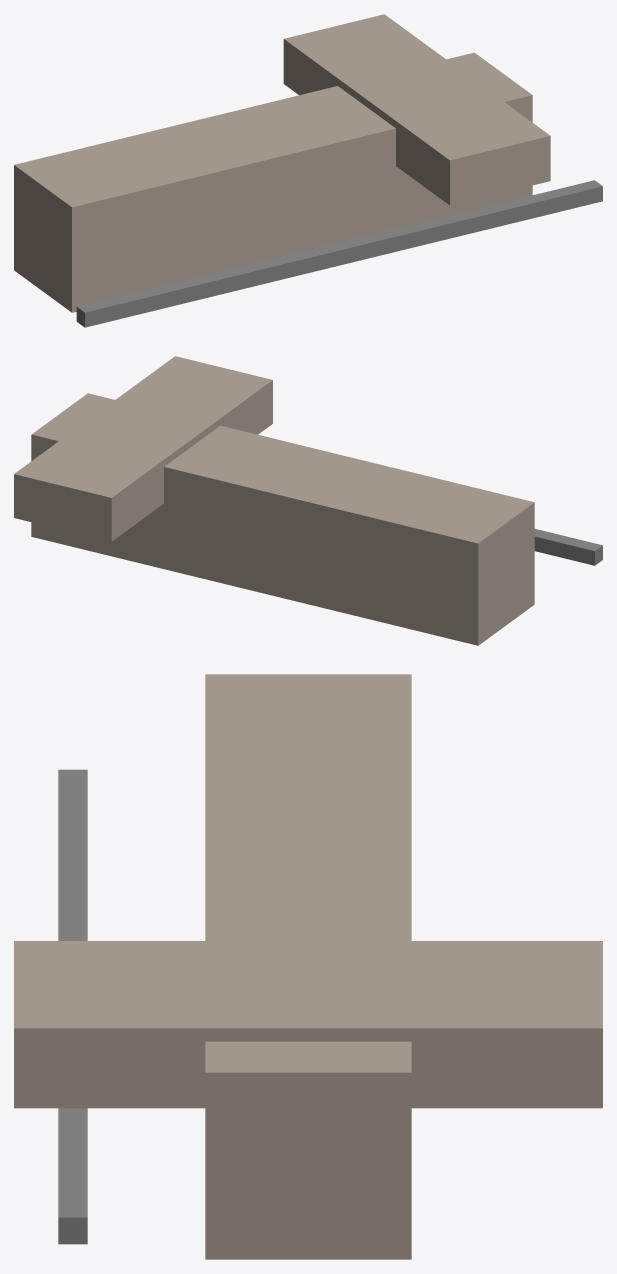
Rendered from FallenPole.glb.
The picture shows the model from 3 angles, top to bottom: view 1: azimuth 30°, elevation 25°; view 2: azimuth 150°, elevation 25°; view 3: azimuth 270°, elevation 25°; orthographic projection. The views are drawn at different scales.
Size of the model in its own units: 1.8 by 0.375 by 1.
